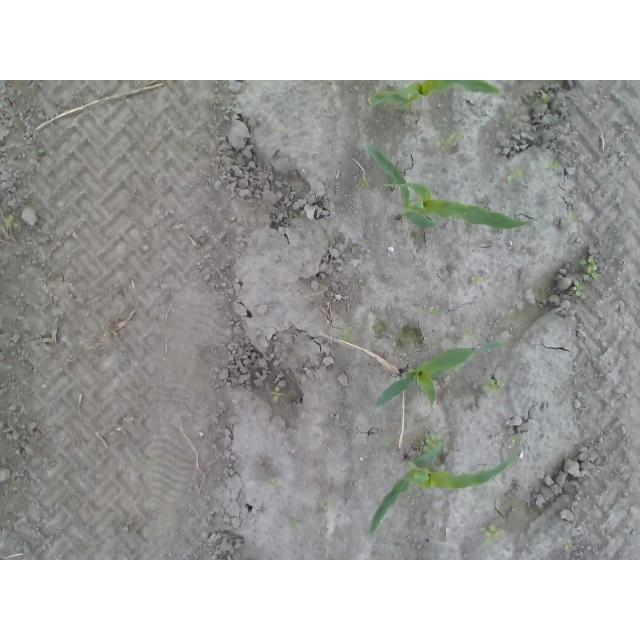Maize: (364, 141, 545, 232), (369, 444, 516, 541), (375, 341, 516, 414), (366, 81, 503, 111)
Weeds: (478, 523, 506, 546), (576, 255, 600, 281), (482, 378, 507, 400), (435, 132, 465, 148), (2, 214, 19, 231), (424, 433, 441, 450), (270, 386, 283, 402), (572, 280, 584, 297), (542, 91, 555, 105), (359, 177, 370, 191), (471, 275, 486, 285), (546, 160, 561, 170), (289, 519, 303, 529), (511, 168, 521, 180), (511, 435, 522, 445), (31, 149, 46, 156), (432, 308, 443, 316)
